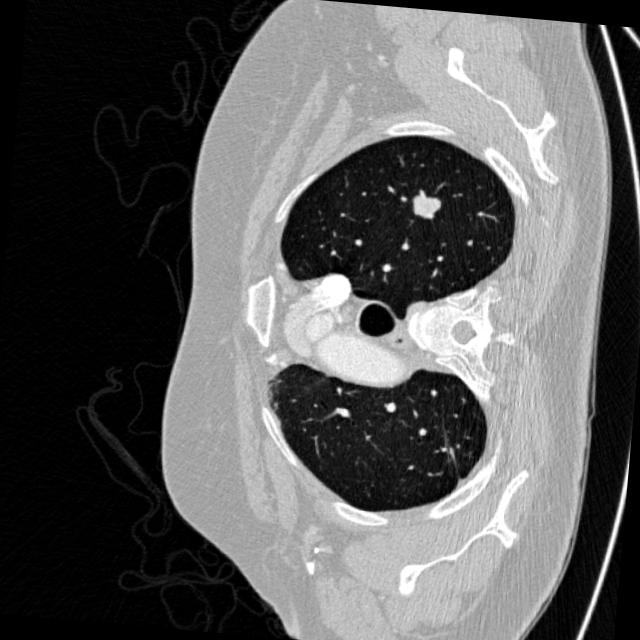nodule: (397, 174, 452, 230)
